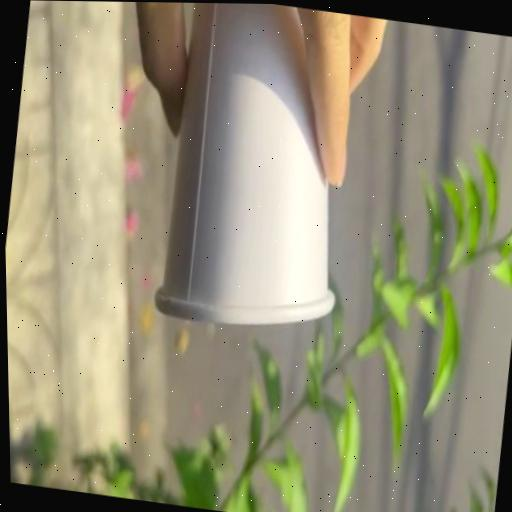Ly_giay: (155, 3, 332, 323)
